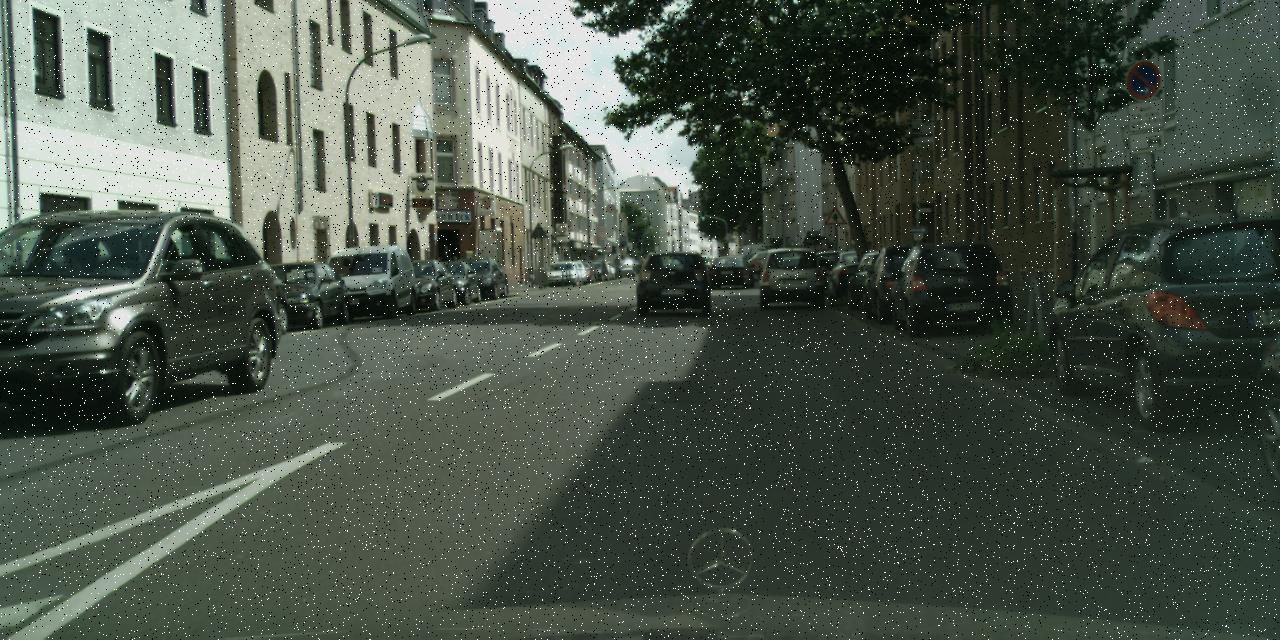ped: (612, 255, 620, 276)
